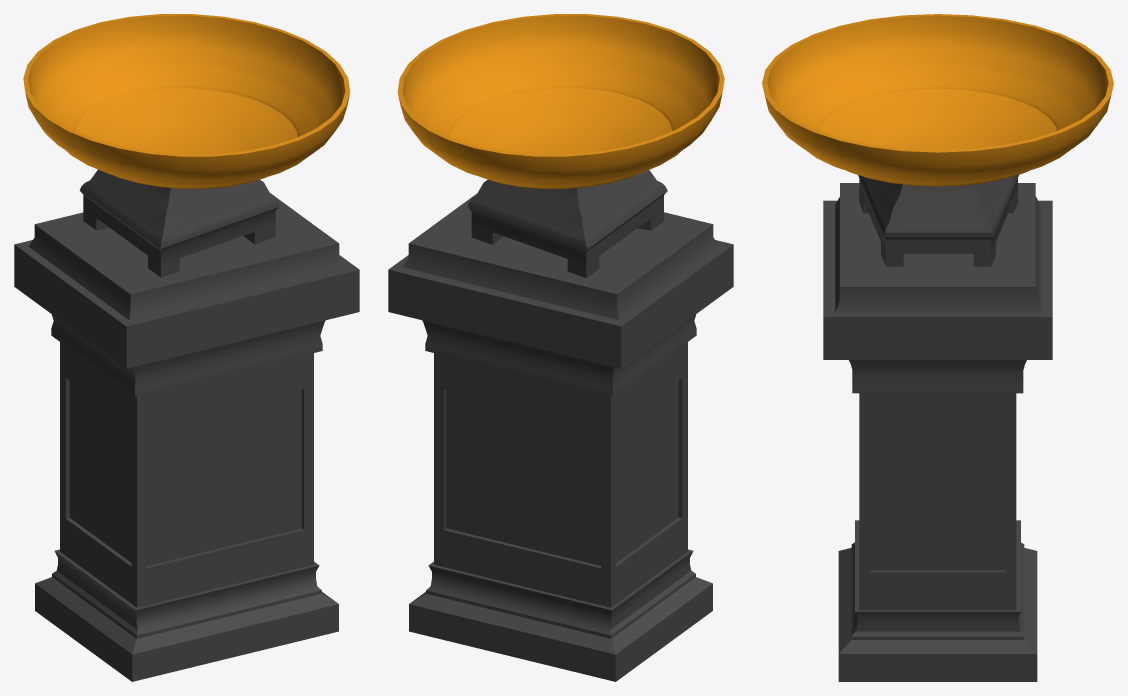
The model's file is farol_base_001.fbx.
3 views of the same model, side by side, from view 1: azimuth 30°, elevation 25°; view 2: azimuth 150°, elevation 25°; view 3: azimuth 270°, elevation 25° (orthographic). The views are drawn at different scales.
Visible parts, largest first — view 1: farol_base_001; view 2: farol_base_001; view 3: farol_base_001.
Boxes of the visible parts, box(x1,y1,x2,y2) form: farol_base_001: box(14, 14, 359, 681); farol_base_001: box(388, 14, 733, 681); farol_base_001: box(762, 14, 1113, 681).
Bounding box in the file's own units: 147 × 270 × 158.
